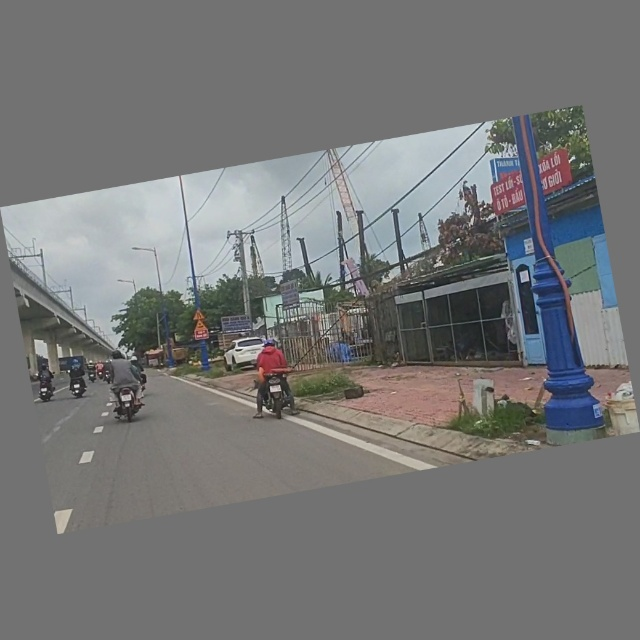W.203c: (191, 308, 207, 322)
W.245a: (193, 319, 208, 332)
